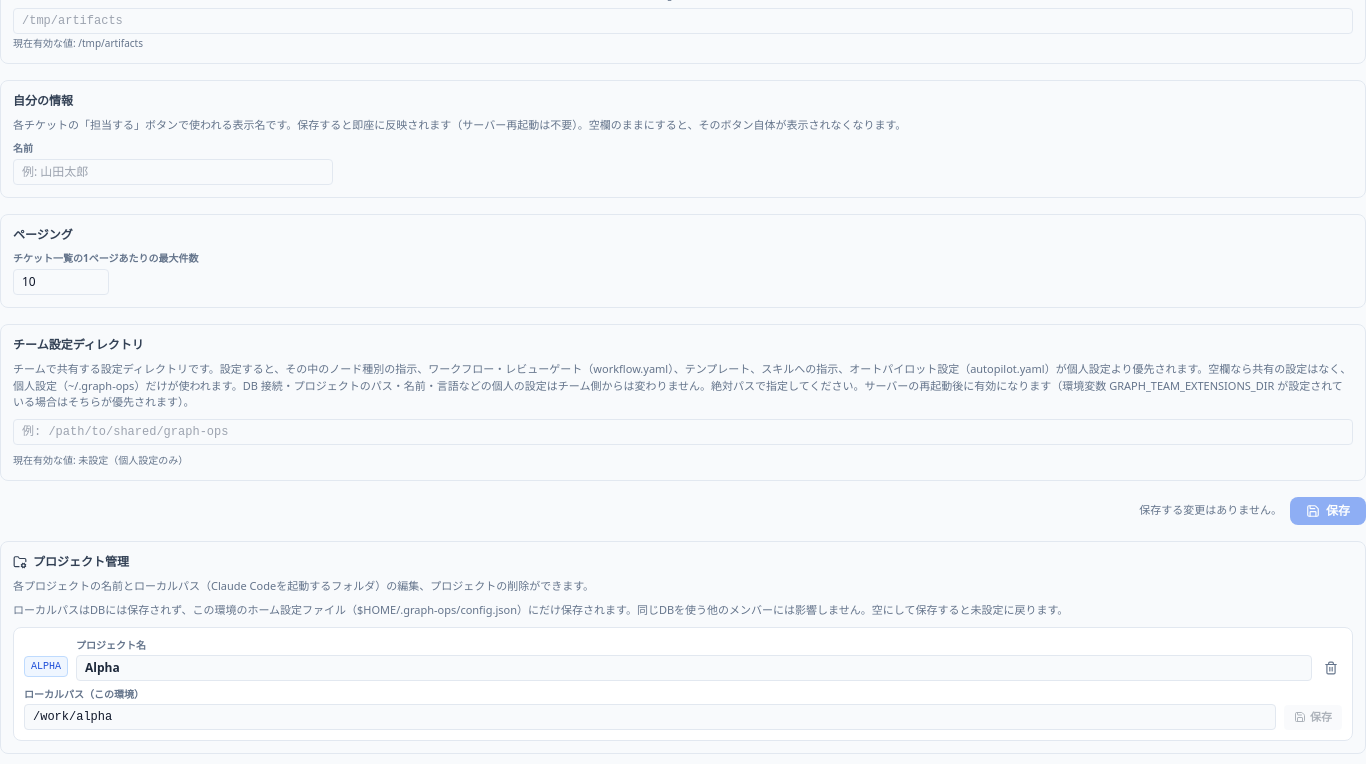
Test: AppSettingsEditor project local paths › deleting a project › asks in a danger dialog naming the project, then deletes and reports the change on confirm
(page scrolled)
What coordinates should you click on to do the following:
click the button named "プロジェクトを削除: Alpha"
I would click on:
 (1331, 668)
Its box is x1=1320 y1=656 x2=1342 y2=678.
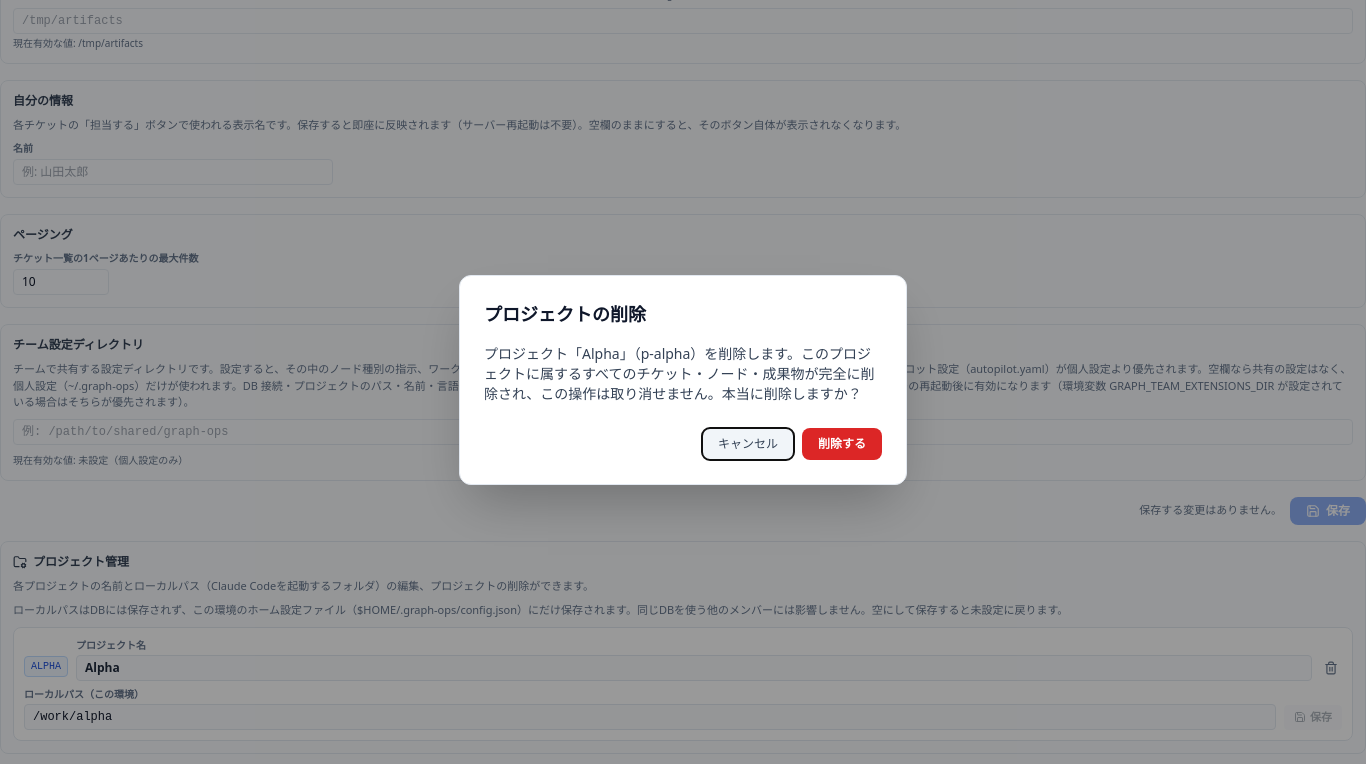
Now the button with test id "project-delete-confirm-confirm" reads "削除する"
What coordinates should you click on to do the following:
click the button with test id "project-delete-confirm-confirm"
I would click on:
 (842, 444)
Its box is x1=802 y1=428 x2=882 y2=460.
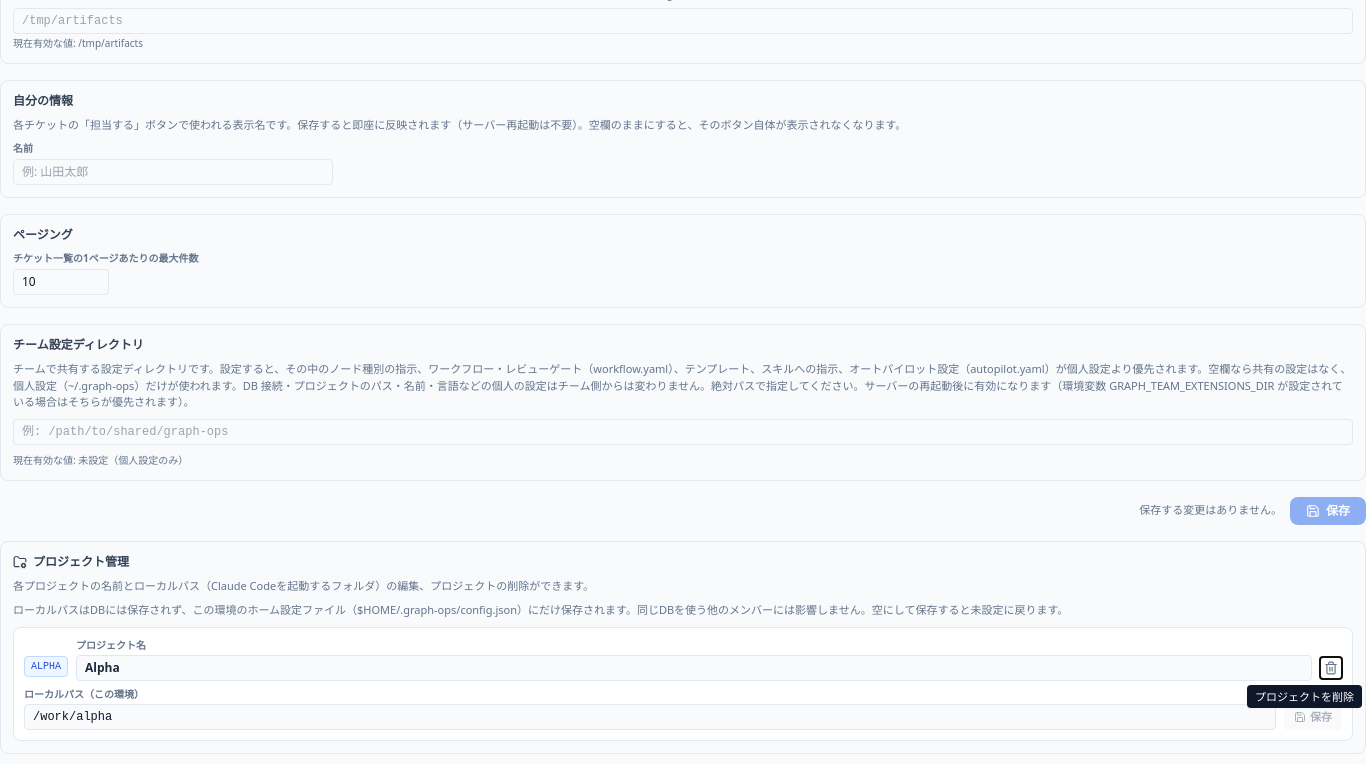
Now the dialog with test id "project-delete-confirm" is gone
